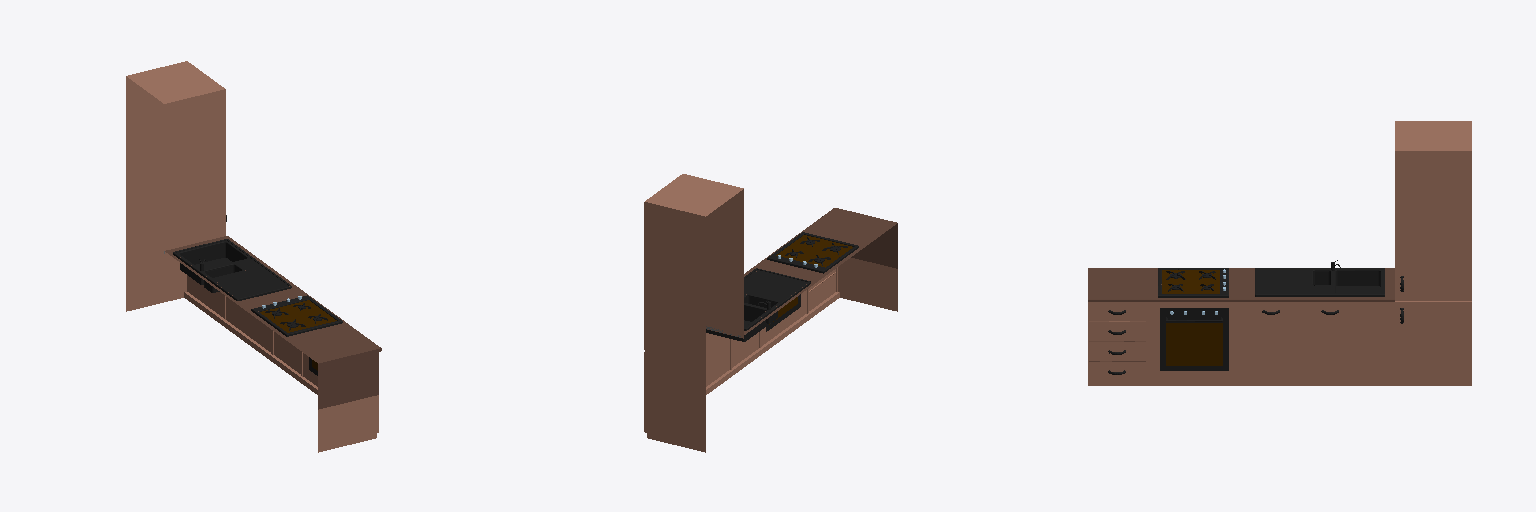
The model's file is 12684_Kitchen.obj.
3 renders of one model, left to right at view 1: azimuth 30°, elevation 25°; view 2: azimuth 150°, elevation 25°; view 3: azimuth 270°, elevation 25°, orthographic.
Visible parts, largest first — view 1: Acciaio01_2, Acciaio01_3, Acciaio01, Acciaio01_1; view 2: Acciaio01_2, Acciaio01_3, Acciaio01, Acciaio01_1; view 3: Acciaio01_2, Acciaio01, Acciaio01_3, Acciaio01_1.
Boxes of the visible parts, x1,y1,x2,y2 form: Acciaio01_2: [126, 61, 378, 452]; Acciaio01_3: [165, 236, 381, 409]; Acciaio01: [173, 215, 342, 375]; Acciaio01_1: [260, 300, 336, 370]; Acciaio01_2: [644, 174, 897, 452]; Acciaio01_3: [744, 208, 897, 334]; Acciaio01: [706, 232, 858, 341]; Acciaio01_1: [769, 235, 852, 324]; Acciaio01_2: [1088, 121, 1471, 385]; Acciaio01: [1108, 260, 1403, 374]; Acciaio01_3: [1088, 268, 1394, 301]; Acciaio01_1: [1162, 270, 1222, 365].
Bounding box in the file's own units: 1044 × 3456 × 5105.